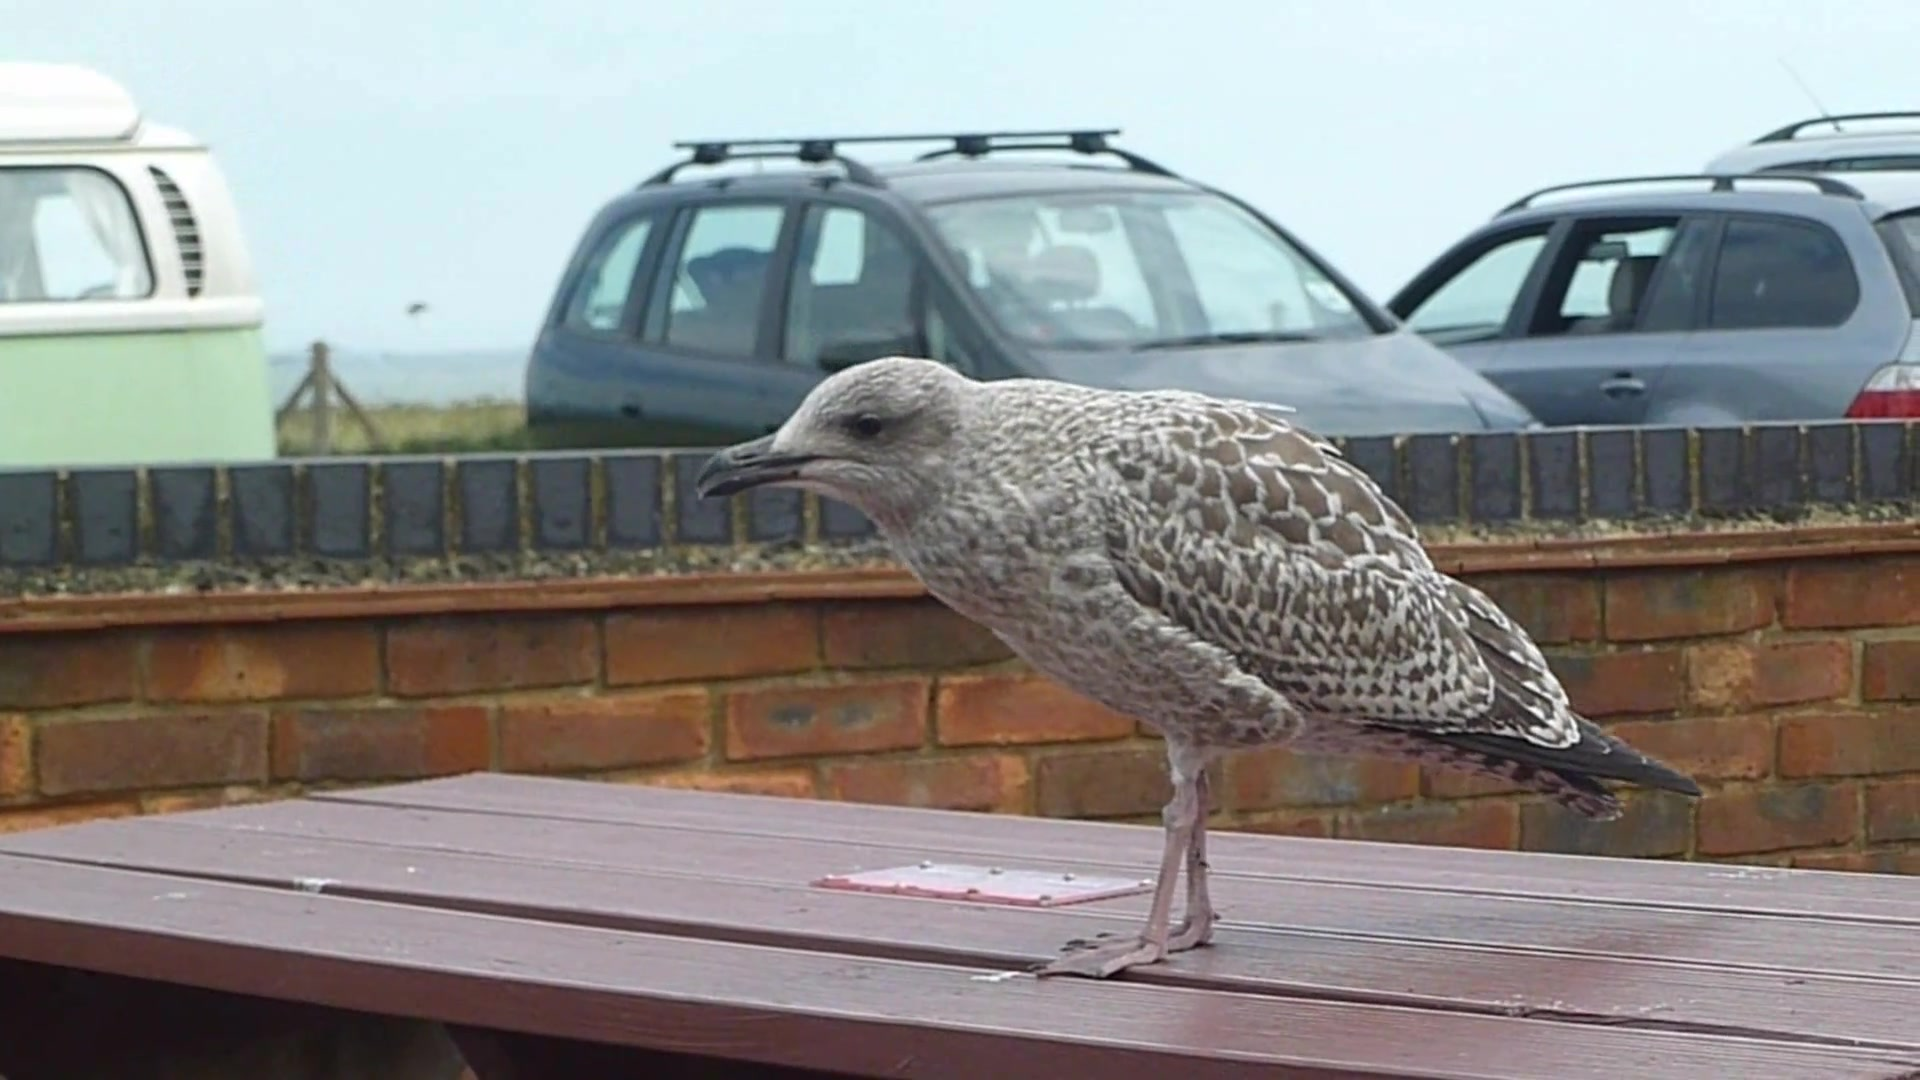bird: (694, 355, 1706, 982)
